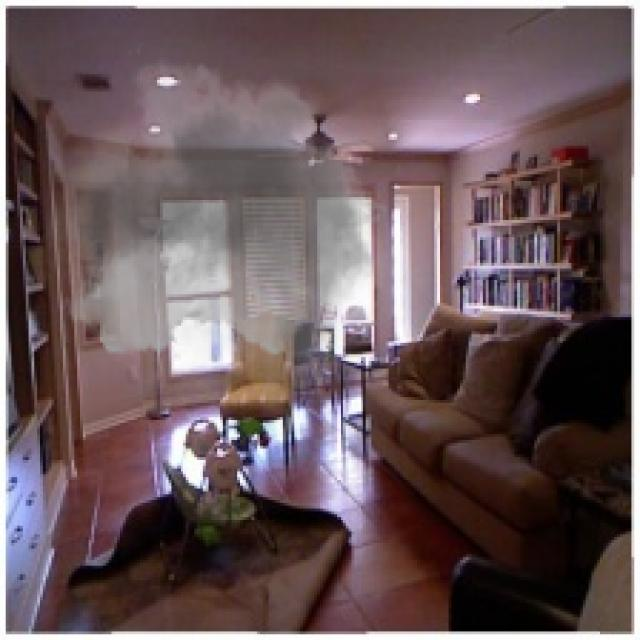smoke: (46, 43, 400, 434)
